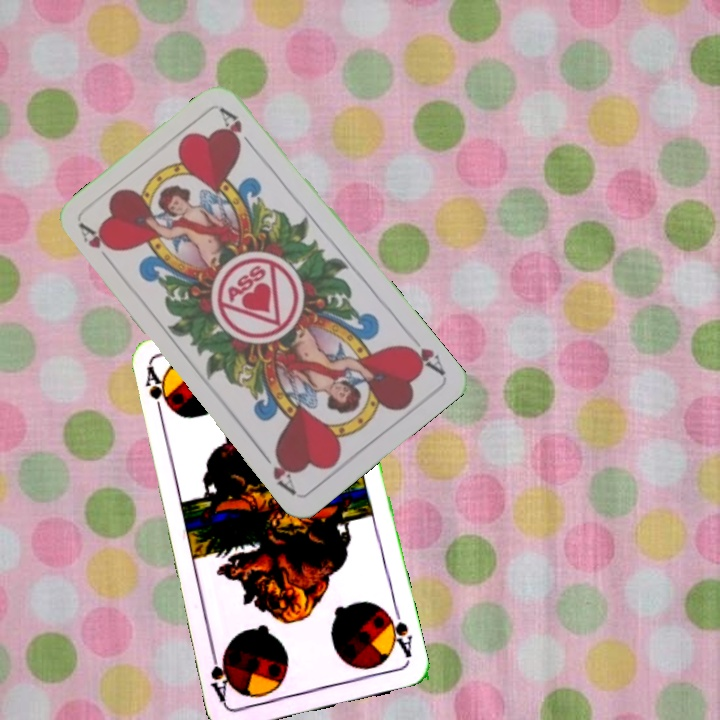HA: (398, 328, 448, 378), (76, 220, 118, 270)
SA: (380, 603, 415, 661), (141, 363, 169, 422)
